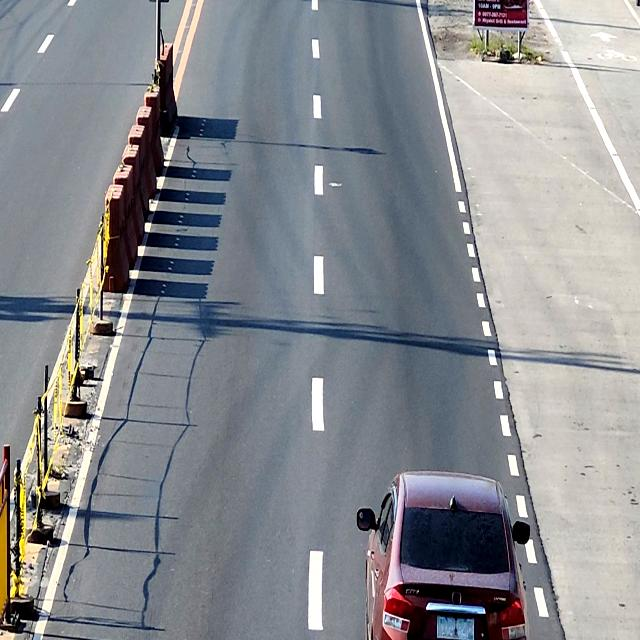Car: (357, 469, 530, 640)
License-Plate: (436, 614, 476, 640)
